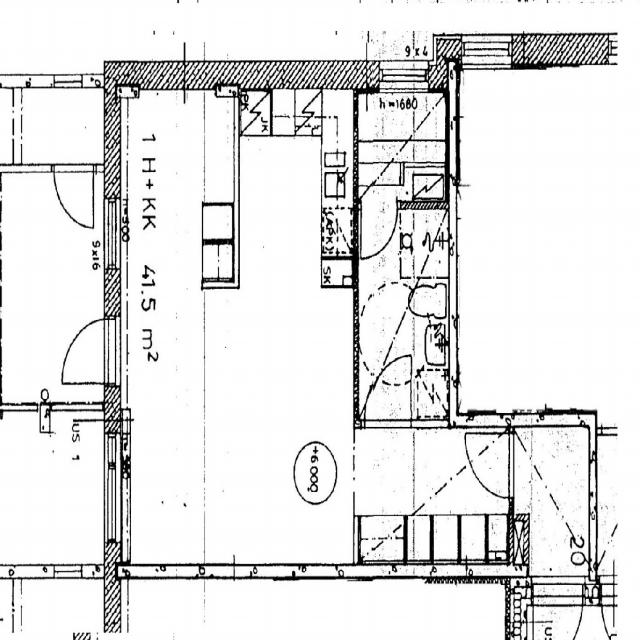door: (59, 319, 121, 384), (366, 352, 411, 428), (463, 433, 514, 498), (53, 163, 93, 230), (361, 201, 396, 260)
